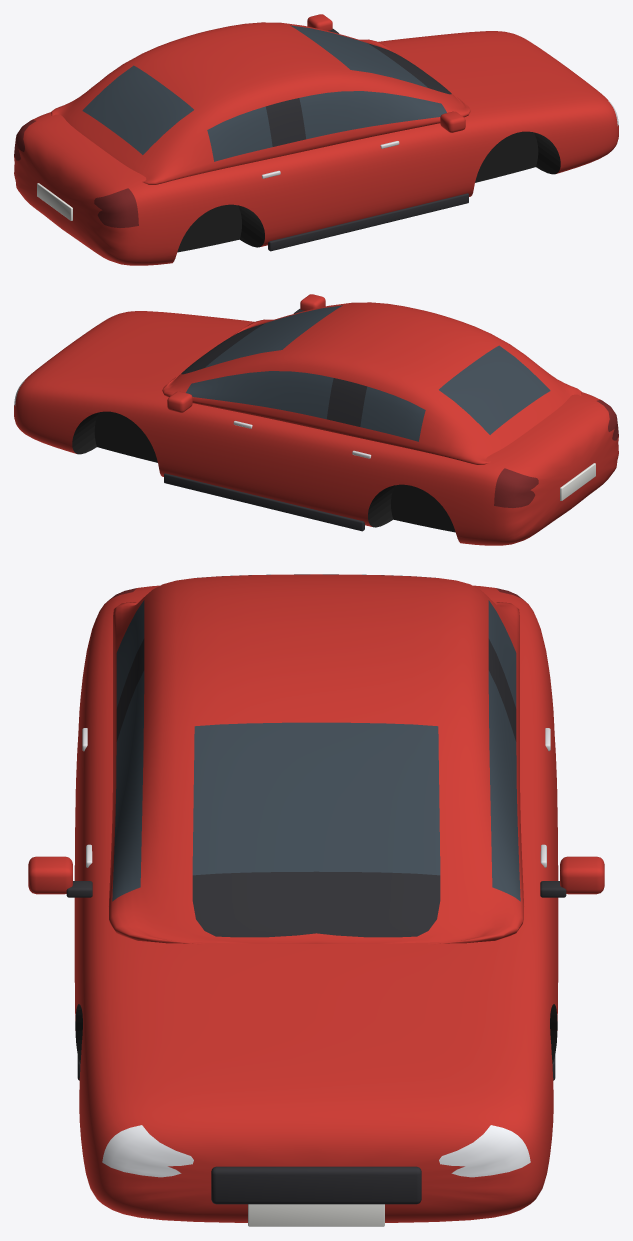
File: car_body.glb
3 views of the same model, one above another, from view 1: azimuth 30°, elevation 25°; view 2: azimuth 150°, elevation 25°; view 3: azimuth 270°, elevation 25° (orthographic). The views are drawn at different scales.
Visible parts, largest first — view 1: Body, Cabin, Sill.001, RearPlate, Mirror.001; view 2: Body, Cabin, Sill, RearPlate, Mirror; view 3: Cabin, Body, Grille, FrontPlate, Mirror, Mirror.001.
Boxes of the visible parts, box(x1,y1,x2,y2) form: Body: box(14, 31, 618, 265); Cabin: box(51, 22, 470, 184); Sill.001: box(268, 193, 468, 251); RearPlate: box(37, 183, 72, 220); Mirror.001: box(440, 111, 465, 132); Body: box(14, 311, 618, 545); Cabin: box(162, 302, 581, 464); Sill: box(164, 473, 364, 531); RearPlate: box(560, 463, 595, 500); Mirror: box(167, 391, 192, 412); Cabin: box(109, 574, 523, 944); Body: box(74, 585, 558, 1222); Grille: box(211, 1166, 421, 1204); FrontPlate: box(248, 1204, 384, 1226); Mirror: box(560, 856, 604, 894); Mirror.001: box(28, 856, 72, 894).
Size of the model in its own units: 4.6 by 1.27 by 2.19.
